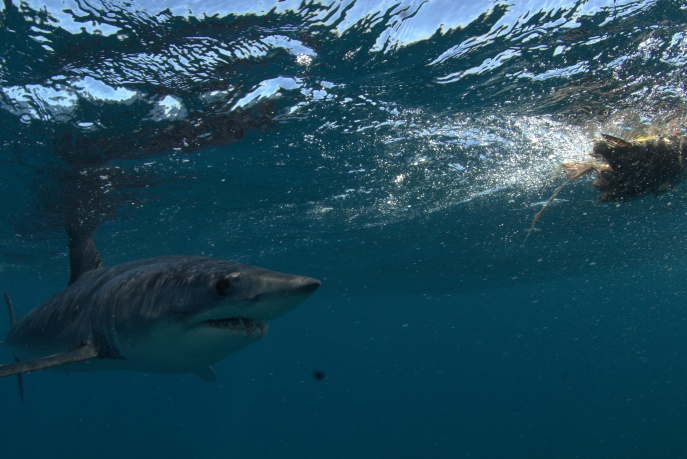Mako: (1, 227, 326, 408)
